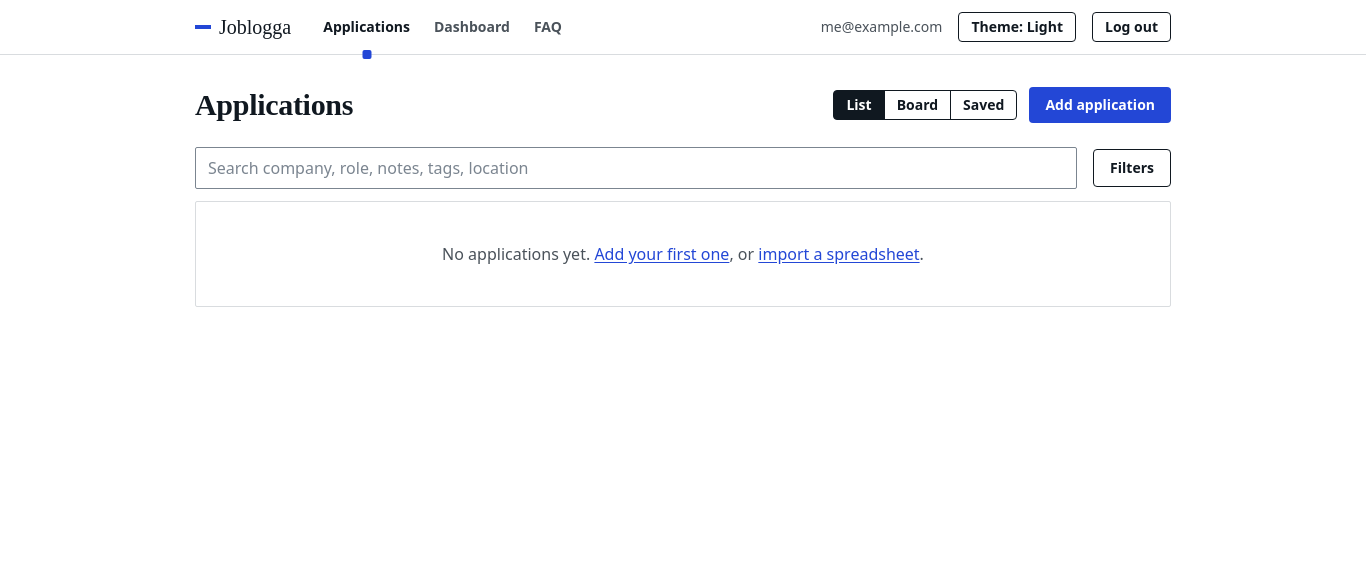
Scenario: navigation › is reachable from the header on other pages
Click the link "Dashboard" at coordinates (472, 26), box [434,17,510,36]
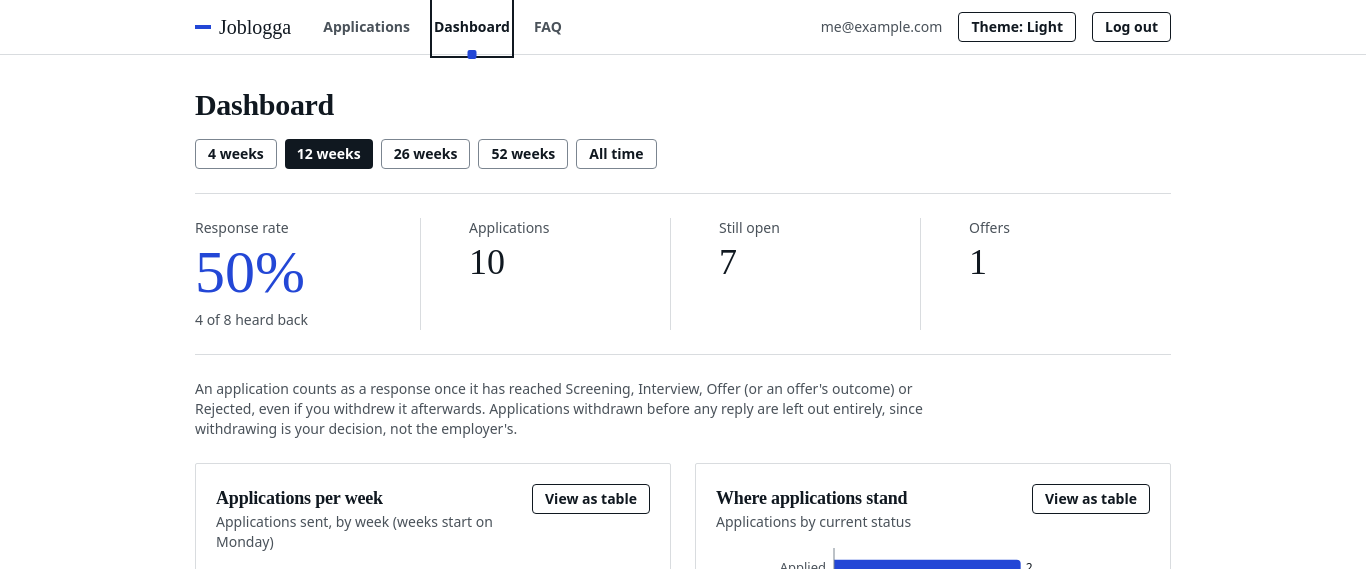
Expected: the heading "Dashboard" is shown, [195,88,334,121]
